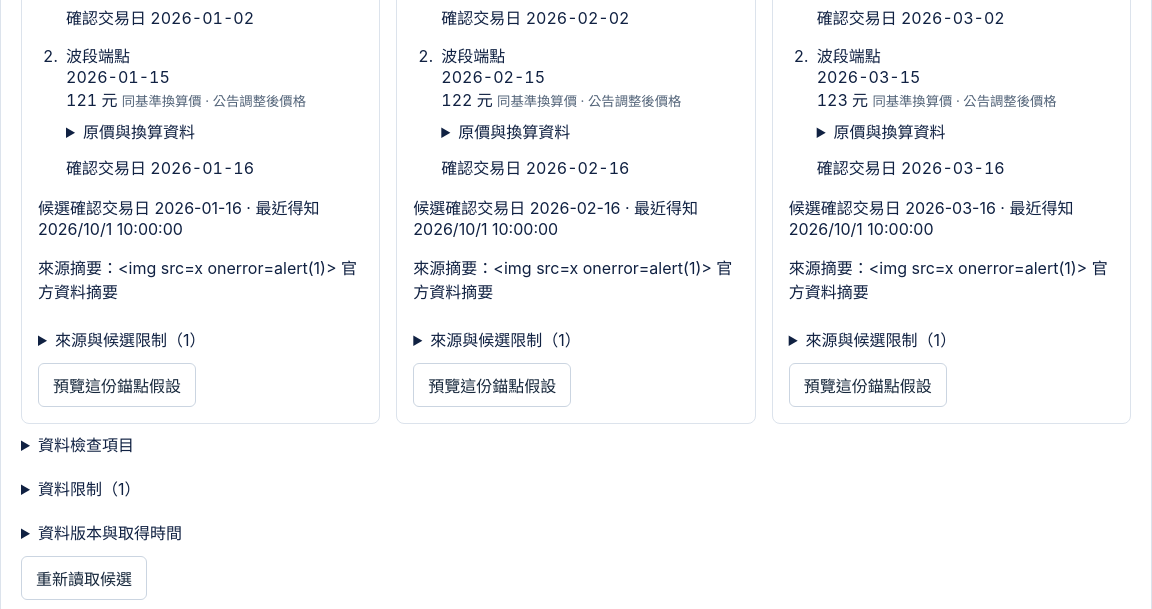
Test case: AutomaticWaveCandidates › retries a response-lost draft with the same idempotency key and disables creation after success
(page scrolled)
Click the button "預覽這份錨點假設" below "121 元": (117, 385) [38,363,196,407]
(page scrolled)
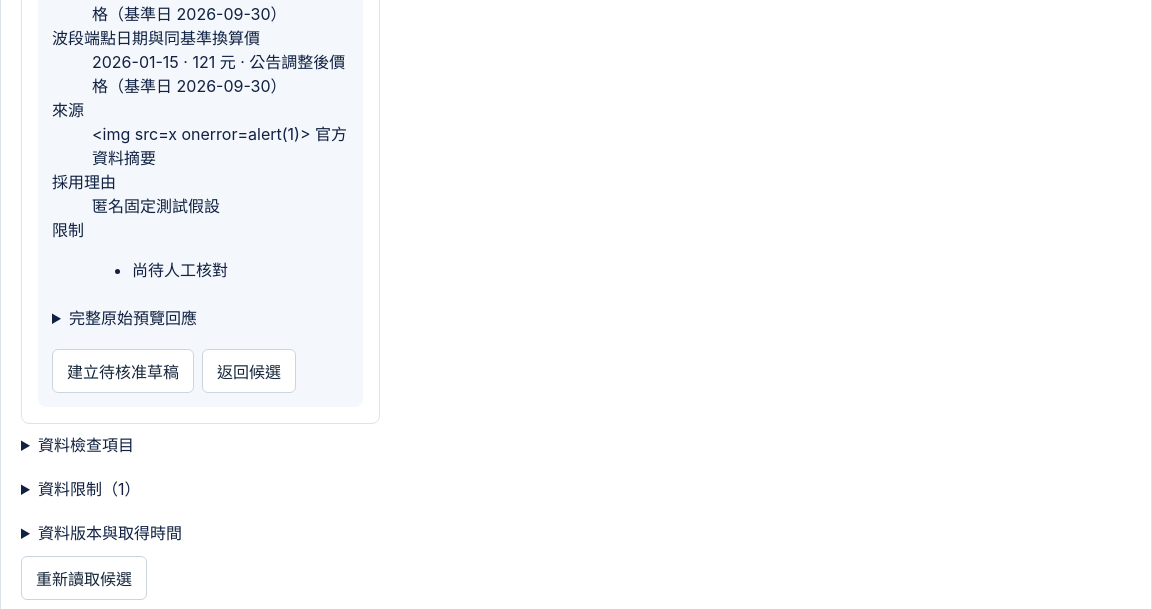
Expected: the button "建立待核准草稿" is shown
Click the button "建立待核准草稿": (123, 371) [52,349,194,393]
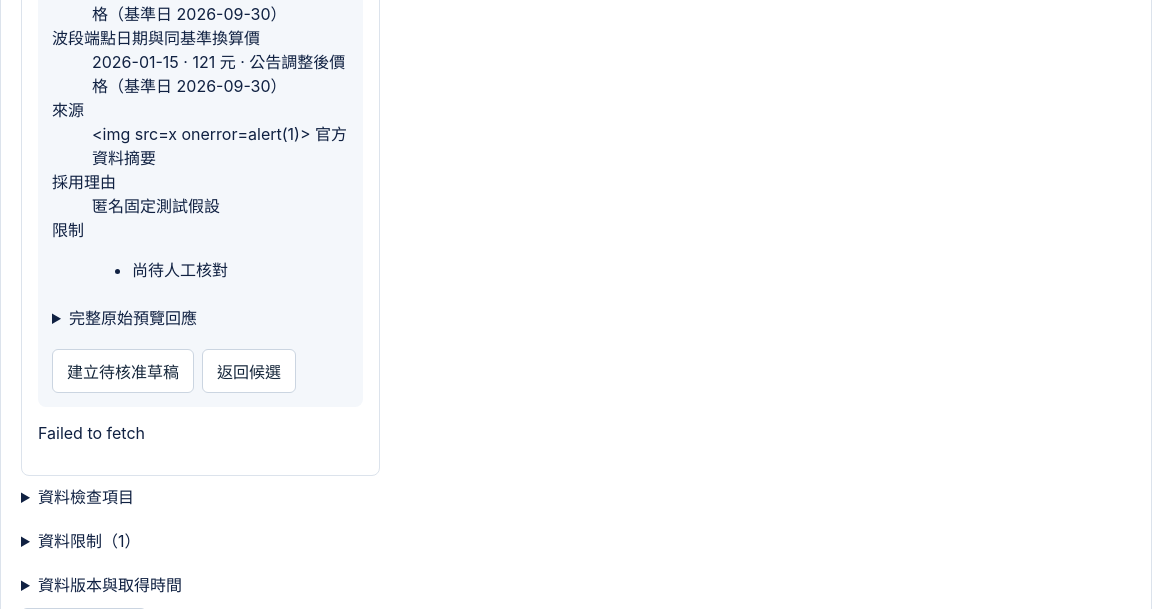
Expected: the text "Failed to fetch" is shown, [38,423,145,443]
Click the button "建立待核准草稿": (123, 371) [52,349,194,393]
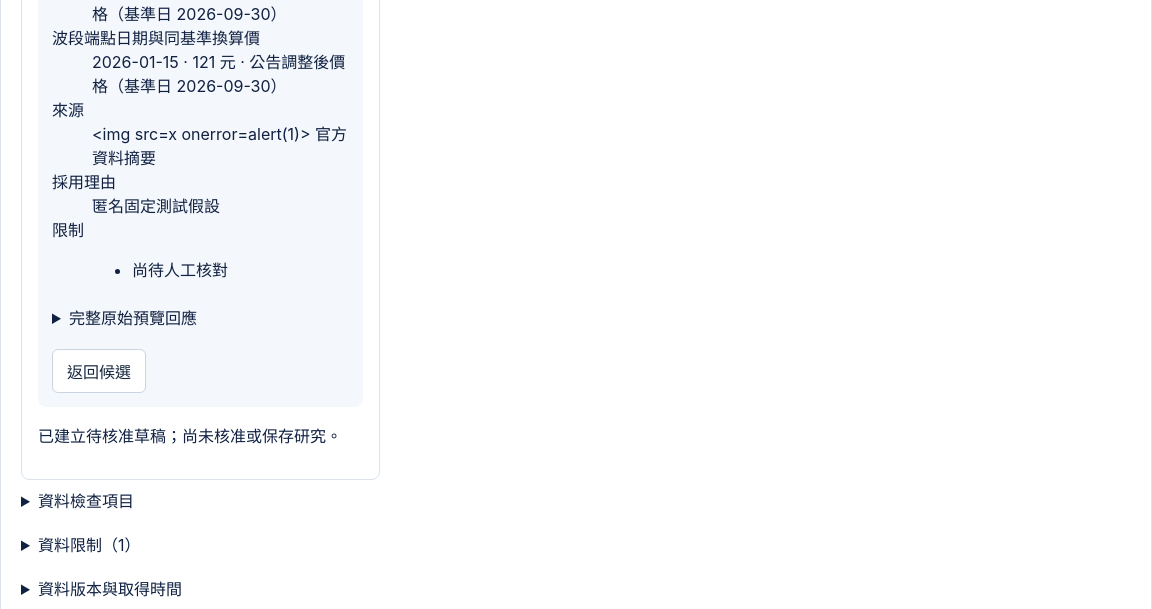
Expected: the text "已建立待核准草稿；尚未核准或保存研究。" is shown, [38,423,363,447]
